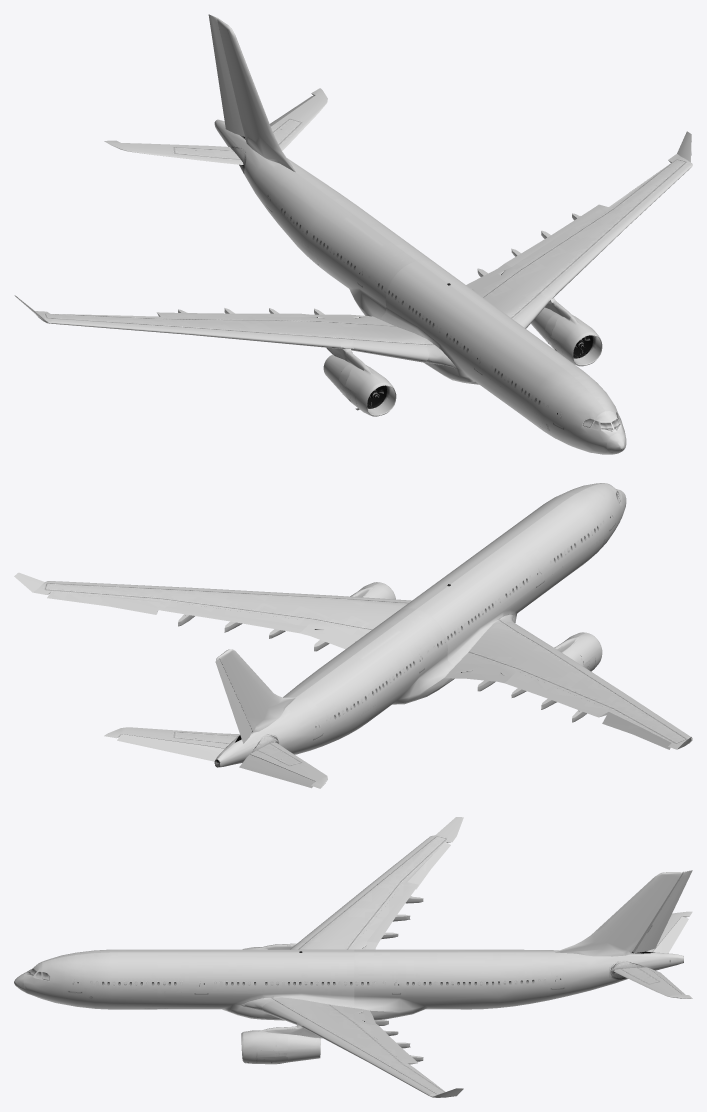
3 renders of one model, top to bottom at view 1: azimuth 30°, elevation 25°; view 2: azimuth 150°, elevation 25°; view 3: azimuth 270°, elevation 25°, orthographic. The views are drawn at different scales.
Parts seen in each view (by area): view 1: node_2; view 2: node_2; view 3: node_2.
Boxes of the visible parts, left/top/right/bottom form: node_2: left=14, top=14, right=692, bottom=454; node_2: left=14, top=483, right=692, bottom=788; node_2: left=14, top=817, right=692, bottom=1097.
Bounding box in the file's own units: 60.29 × 15.41 × 63.7.
2 materials, 2 textured.
